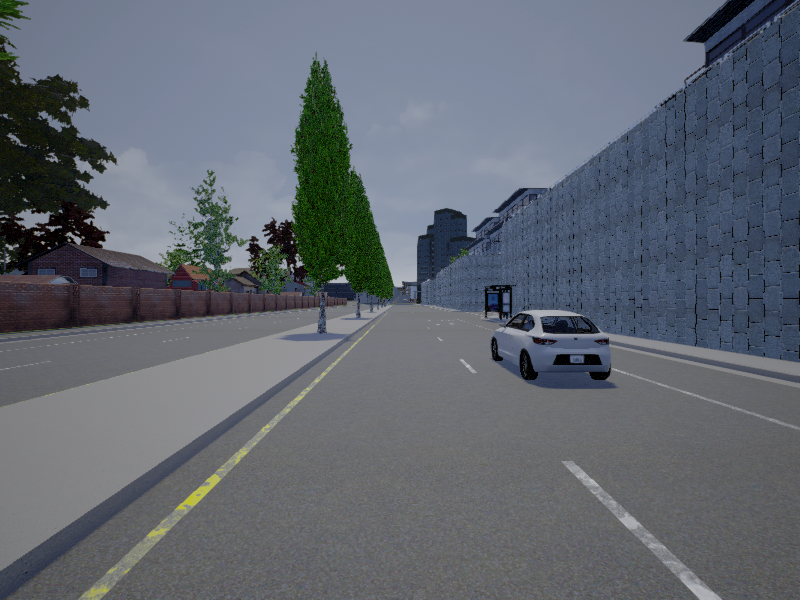Benign: (491, 313, 613, 384)
